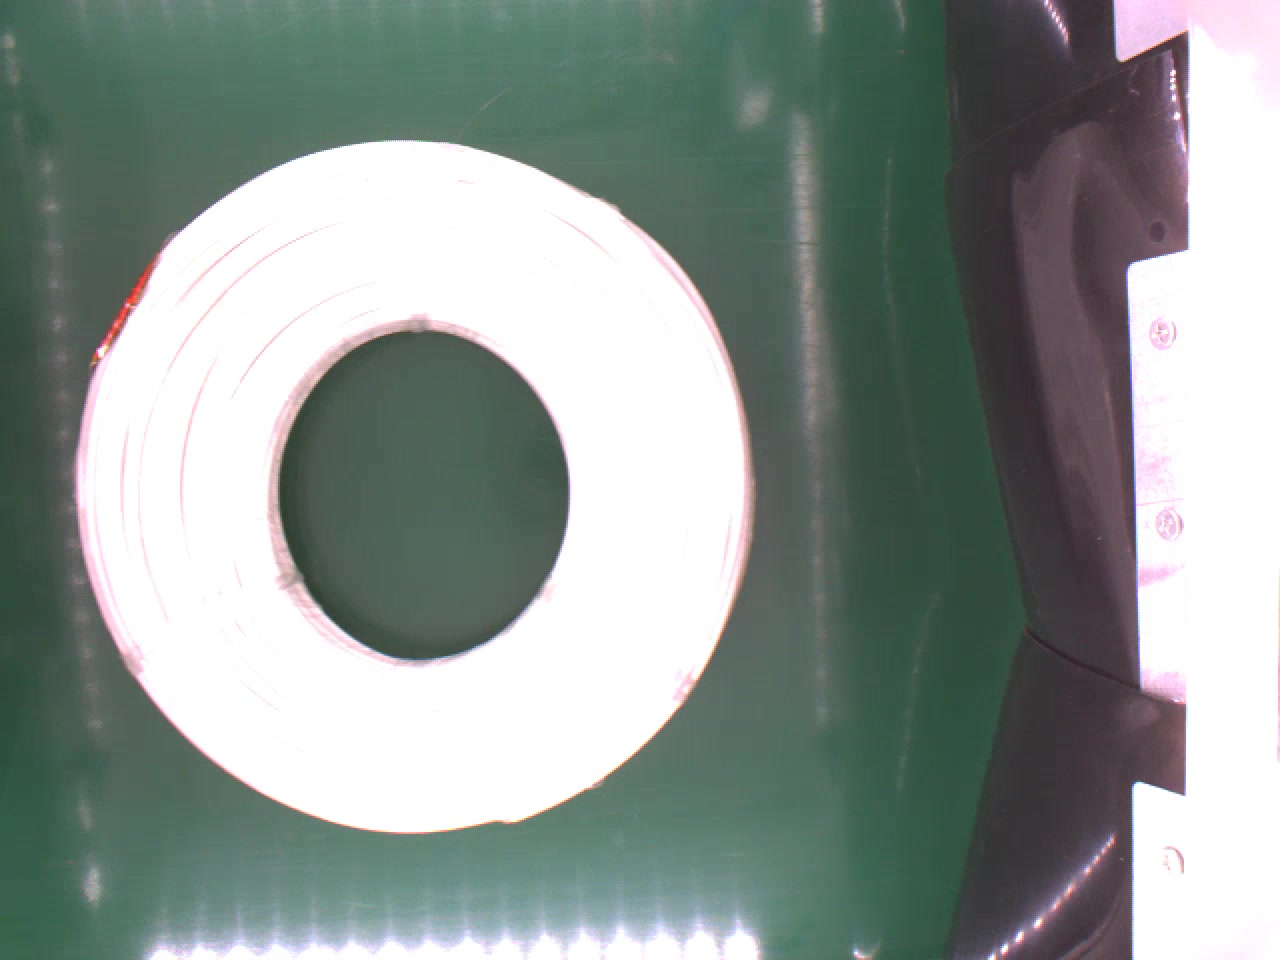white: (65, 137, 764, 839)
